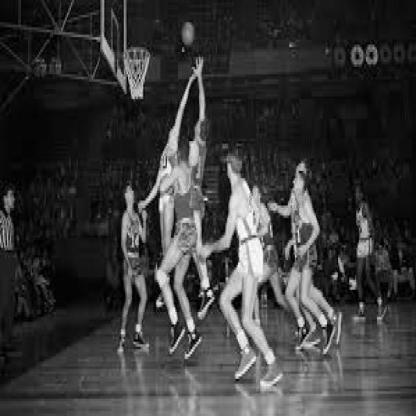basketball: (182, 23, 195, 47)
rim: (126, 44, 152, 64)
